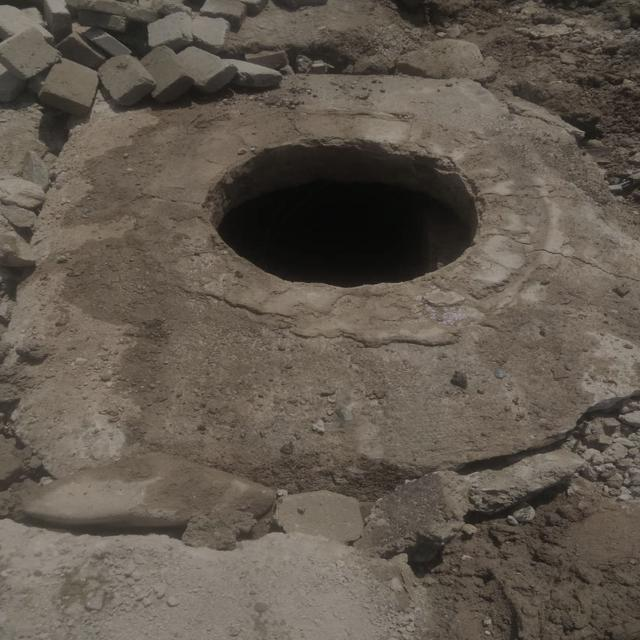lose: (204, 137, 487, 289)
